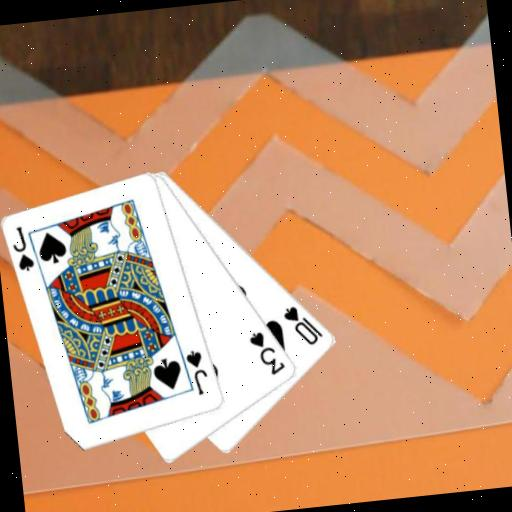10S: (280, 300, 327, 350)
3S: (246, 326, 288, 379)
JS: (182, 346, 212, 398), (8, 223, 37, 275)
